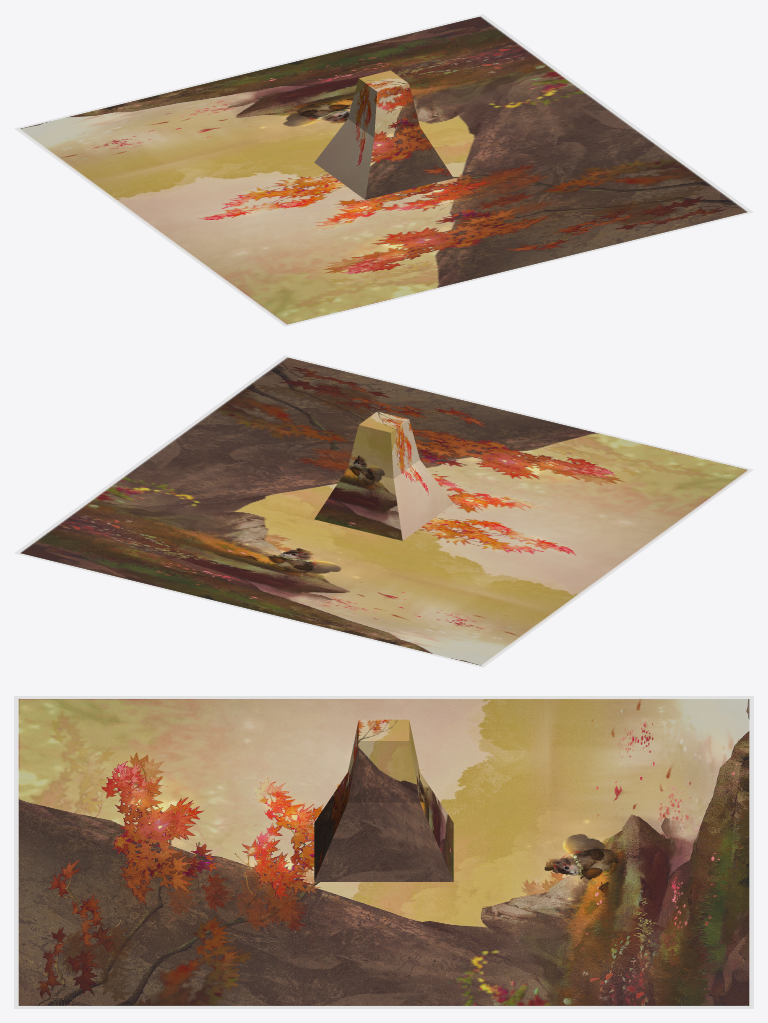
3 renders of one model, top to bottom at view 1: azimuth 30°, elevation 25°; view 2: azimuth 150°, elevation 25°; view 3: azimuth 270°, elevation 25°, orthographic. The views are drawn at different scales.
Visible parts, largest first — view 1: Cube; view 2: Cube; view 3: Cube.
Boxes of the visible parts, bbox=[...] form: Cube: bbox=[14, 14, 753, 326]; Cube: bbox=[14, 355, 753, 667]; Cube: bbox=[14, 696, 753, 1008].
Bounding box in the file's own units: 20.53 × 3.74 × 20.53.
Materials: 1 (1 with a texture image).
